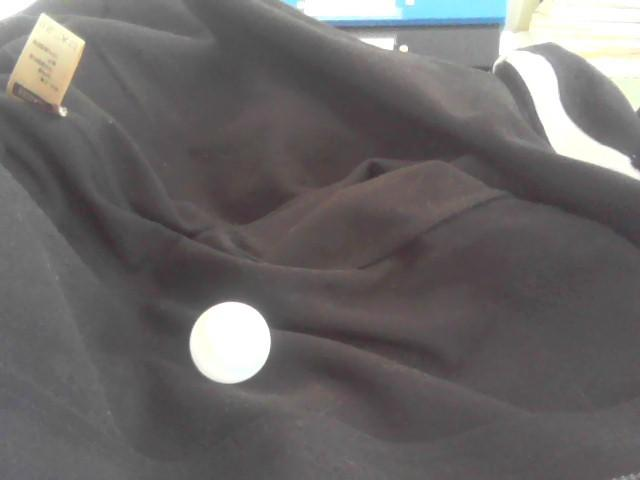ball: (189, 304, 271, 384)
